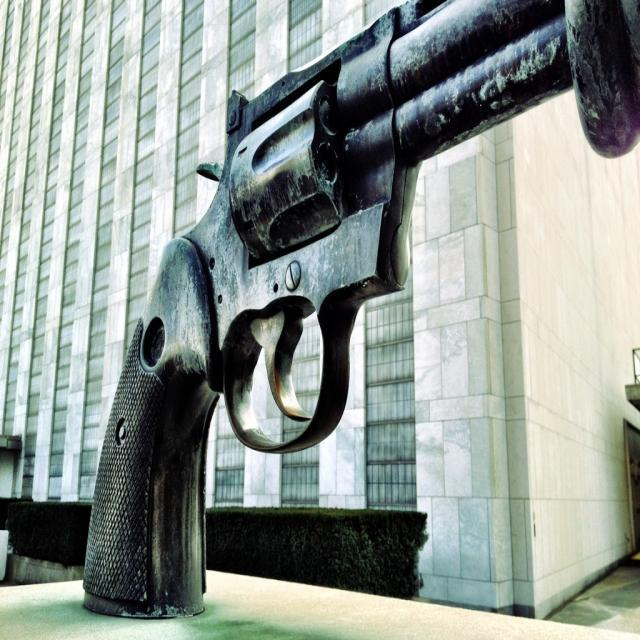Gun: (84, 0, 571, 617)
